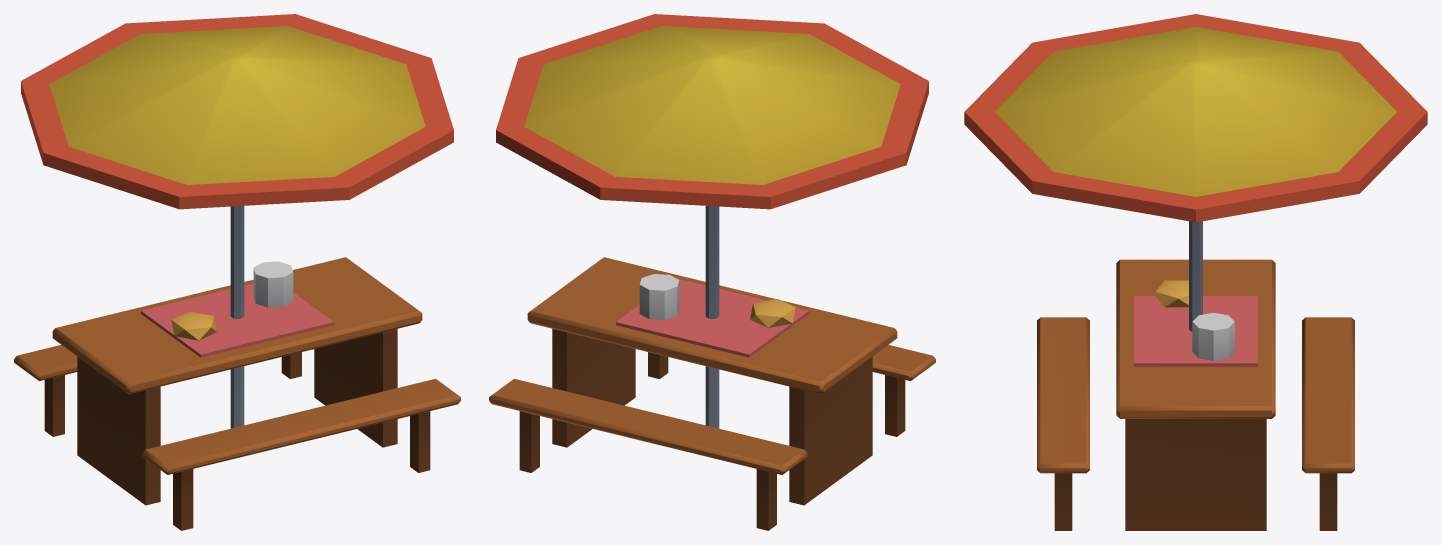
File: b_picknick.glb
3 views of the same model, side by side, from view 1: azimuth 30°, elevation 25°; view 2: azimuth 150°, elevation 25°; view 3: azimuth 270°, elevation 25° (orthographic). The views are drawn at different scales.
Visible parts, largest first — view 1: sway_umbrella, body; view 2: sway_umbrella, body; view 3: sway_umbrella, body.
Boxes of the visible parts, box(x1,y1,x2,y2) form: sway_umbrella: box(21, 14, 453, 209); body: box(14, 206, 460, 530); sway_umbrella: box(496, 14, 928, 209); body: box(489, 206, 935, 530); sway_umbrella: box(964, 14, 1427, 222); body: box(1037, 221, 1354, 530).
Bounding box in the file's own units: 2.62 × 2.53 × 2.62.
